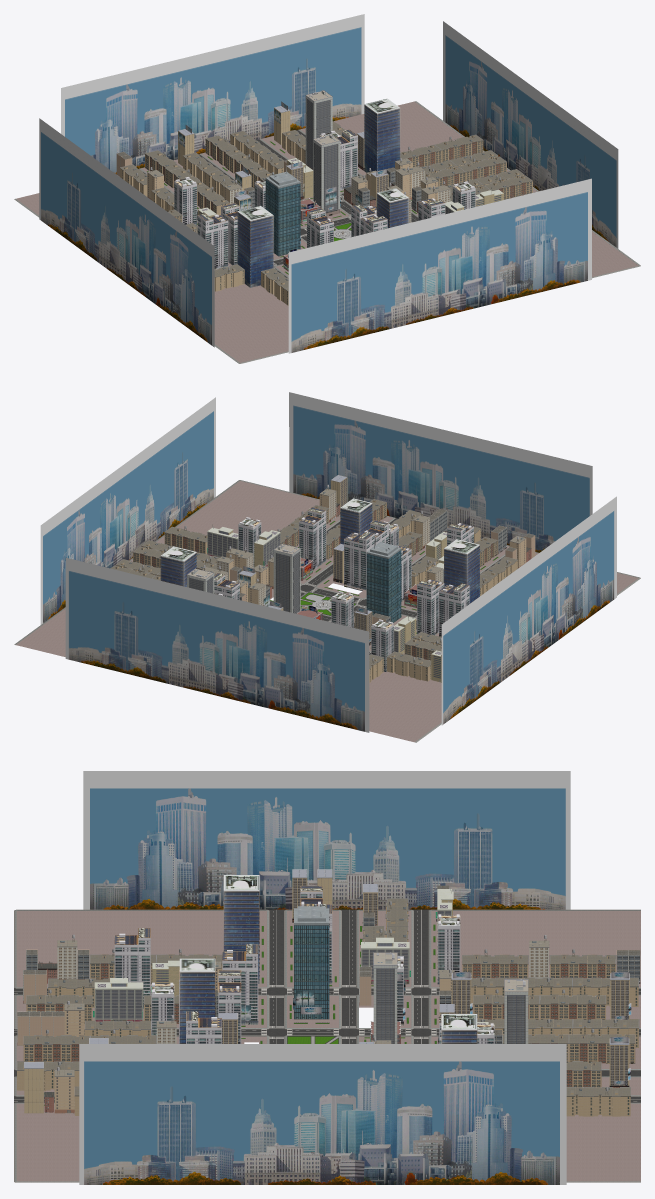
Rendered from SYJ_dixing01.FBX.
The picture shows the model from 3 angles, top to bottom: view 1: azimuth 30°, elevation 25°; view 2: azimuth 150°, elevation 25°; view 3: azimuth 270°, elevation 25°; orthographic projection. The views are drawn at different scales.
Visible parts, largest first — view 1: SYJ_yuanjing01, SYJ_jianzhu11, SYJ_jianzhu06, SYJ_renxingdao02, SYJ_jianzhu02, SYJ_jianzhu05, SYJ_jianzhu09, SYJ_jianzhu07, SYJ_jianzhu10, SYJ_jianzhu03, SYJ_jianzhu08; view 2: SYJ_yuanjing01, SYJ_jianzhu11, SYJ_renxingdao02, SYJ_jianzhu06, SYJ_jianzhu05, SYJ_jianzhu09, SYJ_jianzhu10, SYJ_jianzhu02, SYJ_jianzhu03, SYJ_jianzhu07, SYJ_jianzhu01, Object014; view 3: SYJ_yuanjing01, SYJ_renxingdao02, SYJ_jianzhu06, SYJ_jianzhu11, SYJ_jianzhu07, SYJ_jianzhu03, SYJ_jianzhu05, SYJ_jianzhu02, SYJ_jianzhu09, Object013, SYJ_jianzhu10, SYJ_renxingdao01 (+4 smaller).
Part boxes in pixels (x1,y1,x2,y2): SYJ_yuanjing01: [39, 14, 618, 353]; SYJ_jianzhu11: [174, 98, 475, 287]; SYJ_jianzhu06: [120, 121, 541, 305]; SYJ_renxingdao02: [14, 101, 640, 363]; SYJ_jianzhu02: [305, 90, 340, 216]; SYJ_jianzhu05: [147, 158, 450, 222]; SYJ_jianzhu09: [265, 165, 300, 256]; SYJ_jianzhu07: [178, 106, 388, 210]; SYJ_jianzhu10: [198, 158, 503, 216]; SYJ_jianzhu03: [116, 151, 421, 211]; SYJ_jianzhu08: [178, 101, 386, 210]; SYJ_yuanjing01: [40, 392, 616, 732]; SYJ_jianzhu11: [160, 498, 479, 671]; SYJ_renxingdao02: [14, 480, 640, 742]; SYJ_jianzhu06: [110, 499, 517, 682]; SYJ_jianzhu05: [202, 484, 526, 605]; SYJ_jianzhu09: [366, 540, 401, 622]; SYJ_jianzhu10: [207, 524, 441, 682]; SYJ_jianzhu02: [187, 543, 300, 613]; SYJ_jianzhu03: [230, 509, 535, 624]; SYJ_jianzhu07: [238, 475, 372, 645]; SYJ_jianzhu01: [296, 555, 416, 620]; Object014: [404, 638, 441, 660]; SYJ_yuanjing01: [79, 771, 570, 1184]; SYJ_renxingdao02: [14, 909, 640, 1182]; SYJ_jianzhu06: [17, 926, 639, 1116]; SYJ_jianzhu11: [114, 875, 494, 1043]; SYJ_jianzhu07: [24, 869, 629, 1113]; SYJ_jianzhu03: [17, 885, 640, 1045]; SYJ_jianzhu05: [54, 934, 549, 1113]; SYJ_jianzhu02: [373, 952, 528, 1043]; SYJ_jianzhu09: [294, 904, 329, 1019]; Object013: [93, 971, 143, 1021]; SYJ_jianzhu10: [361, 881, 488, 1024]; SYJ_renxingdao01: [44, 924, 437, 1105].
Size of the model in its own units: 82673 by 19920 by 80247.
